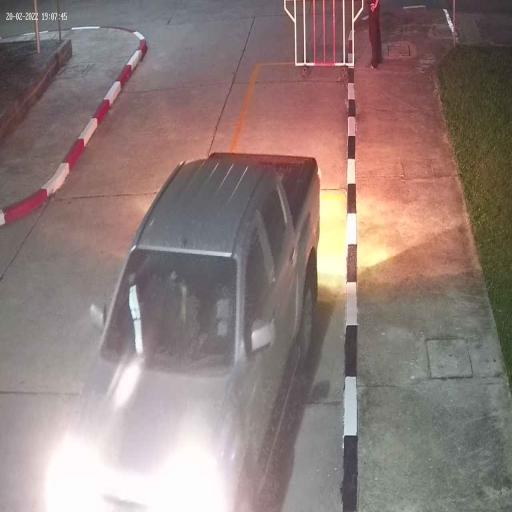car: (60, 152, 320, 511)
